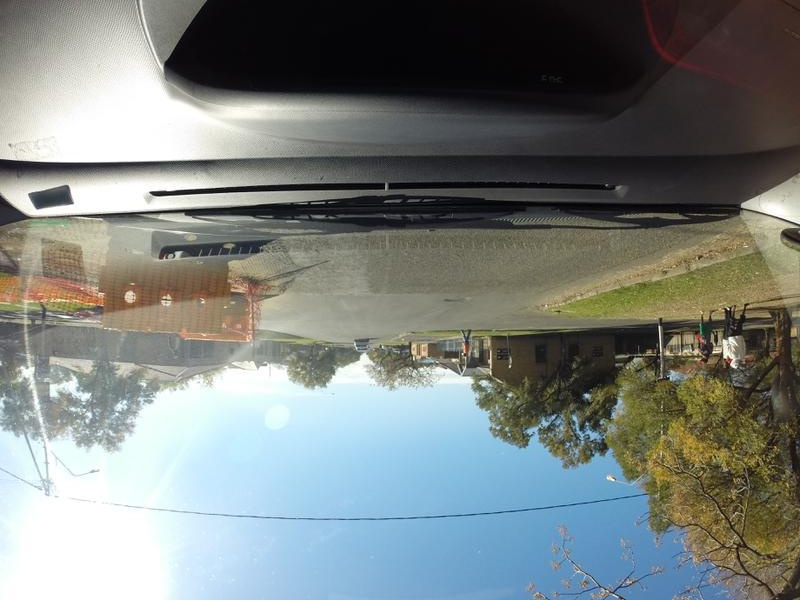pothole: (433, 289, 467, 309)
